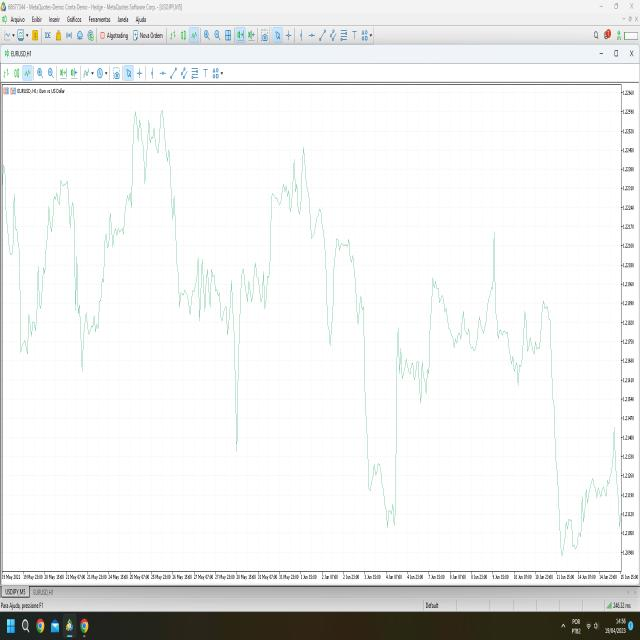bandeira_alta: (390, 304, 429, 543), (234, 240, 268, 469)
bandeira_baixa: (163, 142, 227, 332)
fundo_duplo: (8, 139, 119, 423)
oco: (426, 192, 566, 467)
oco_inv: (161, 180, 283, 468)
